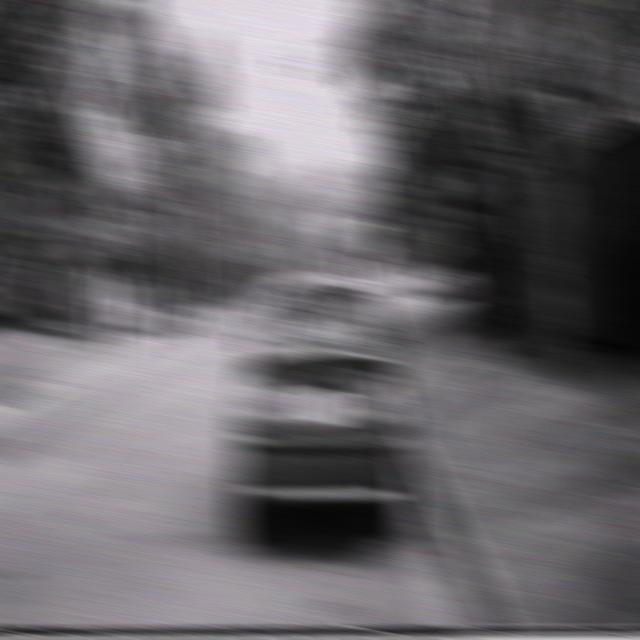stop_sign: (359, 230, 388, 260)
